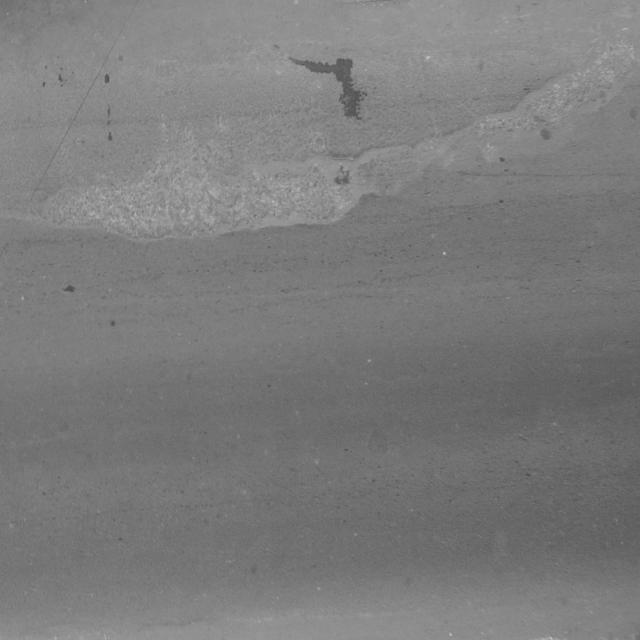GRIETA: (38, 41, 636, 243)
